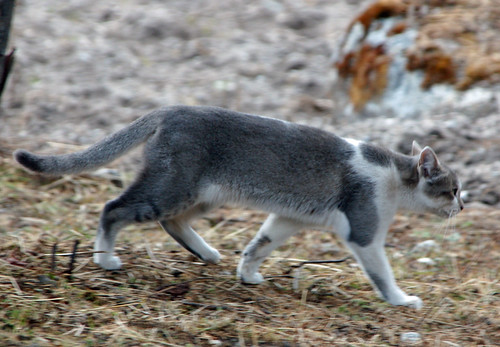cat: (13, 98, 474, 321)
